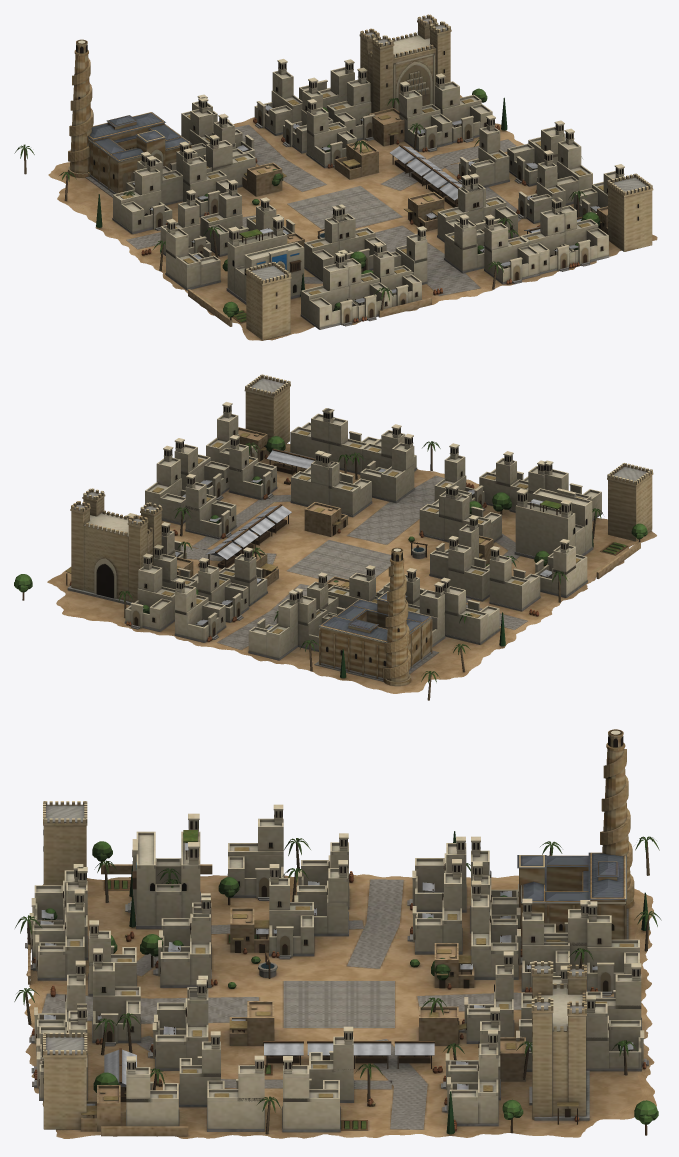
The model's file is kingdoms-town-big-a-levant.glb.
3 renders of one model, top to bottom at view 1: azimuth 30°, elevation 25°; view 2: azimuth 150°, elevation 25°; view 3: azimuth 270°, elevation 25°, orthographic. The views are drawn at different scales.
Visible parts, largest first — view 1: LOD0; view 2: LOD0; view 3: LOD0.
Boxes of the visible parts, x1=… form: LOD0: x1=14, y1=14, x2=657, y2=340; LOD0: x1=14, y1=374, x2=656, y2=700; LOD0: x1=14, y1=729, x2=661, y2=1138.
Size of what is drawn, in the model's own units: 8.09 by 2.4 by 8.19.
Materials: 3 (3 with a texture image).
